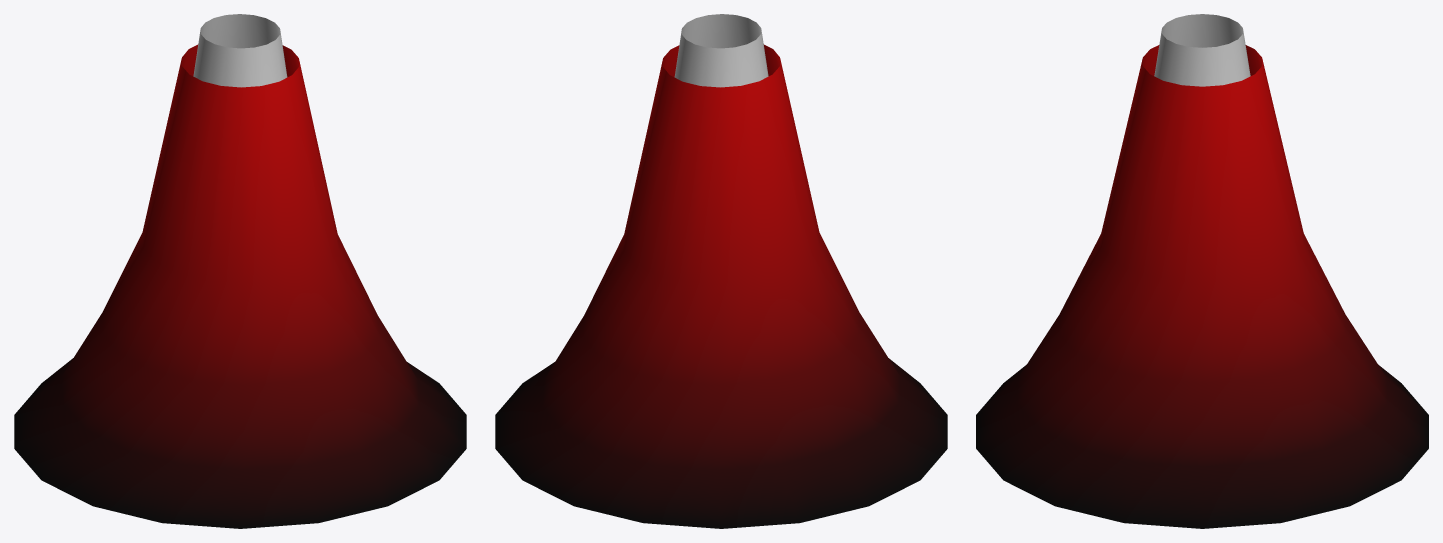
Rendered from flame.FBX.
The picture shows the model from 3 angles, left to right: view 1: azimuth 30°, elevation 25°; view 2: azimuth 150°, elevation 25°; view 3: azimuth 270°, elevation 25°; orthographic projection.
Visible parts, largest first — view 1: SM_Flame; view 2: SM_Flame; view 3: SM_Flame.
Part boxes in pixels (<box>): SM_Flame: <box>14,14,466,528</box>; SM_Flame: <box>495,14,947,528</box>; SM_Flame: <box>976,14,1428,528</box>.
Size of the model in its own units: 49.91 by 50.68 by 48.75.
